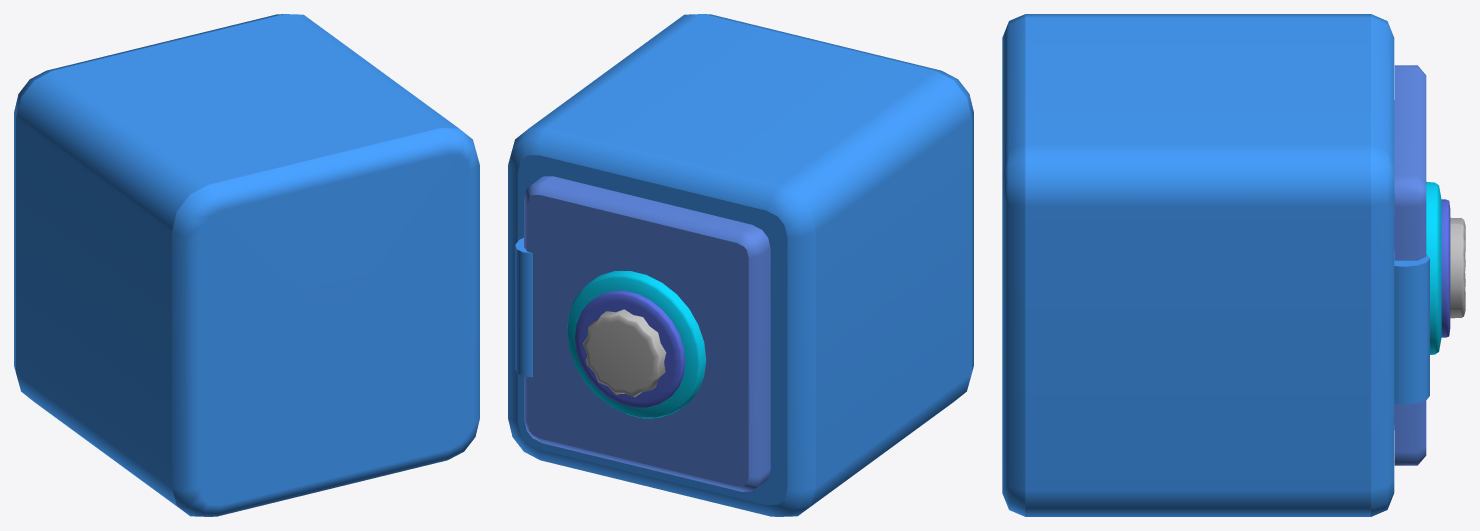
The model's file is Small_Safe_01.fbx.
3 renders of one model, left to right at view 1: azimuth 30°, elevation 25°; view 2: azimuth 150°, elevation 25°; view 3: azimuth 270°, elevation 25°, orthographic. The views are drawn at different scales.
Parts seen in each view (by area): view 1: Small_Safe_Base; view 2: Small_Safe_Base, Small_Safe_Door, Small_Safe_Lock; view 3: Small_Safe_Base, Small_Safe_Door, Small_Safe_Lock.
Boxes of the visible parts, x1,y1,x2,y2 form: Small_Safe_Base: (14, 14, 479, 516); Small_Safe_Base: (508, 14, 973, 516); Small_Safe_Door: (515, 176, 770, 491); Small_Safe_Lock: (583, 309, 666, 397); Small_Safe_Base: (1002, 14, 1394, 516); Small_Safe_Door: (1394, 65, 1450, 465); Small_Safe_Lock: (1450, 217, 1465, 318).
Size of the model in its own units: 39.9 by 41.41 by 47.17.
